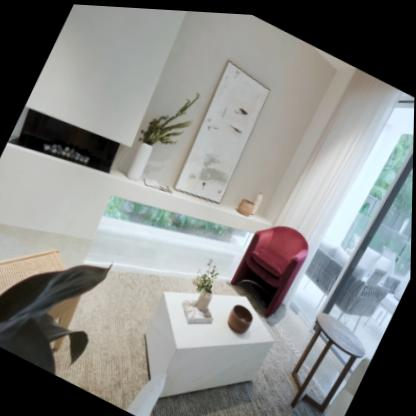Curtains: (272, 63, 403, 294)
Sofa: (224, 204, 317, 321)
Table: (276, 300, 376, 416)
Window: (281, 77, 415, 364)
